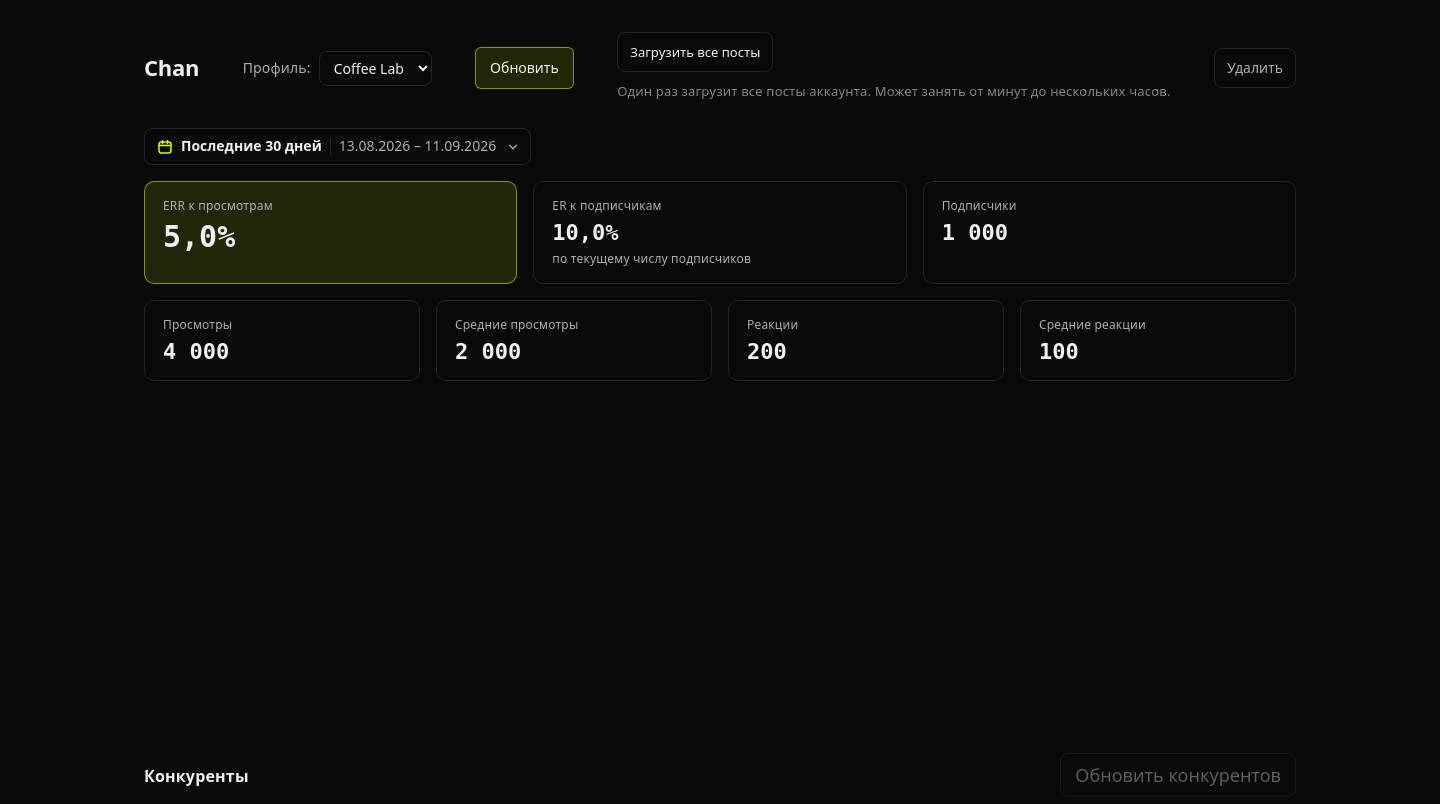
Scenario: delete account › falls back to a generic message when the failure carries none
Click the button with aria-label "Удалить аккаунт" at (1255, 68), box [1214,48,1296,88]
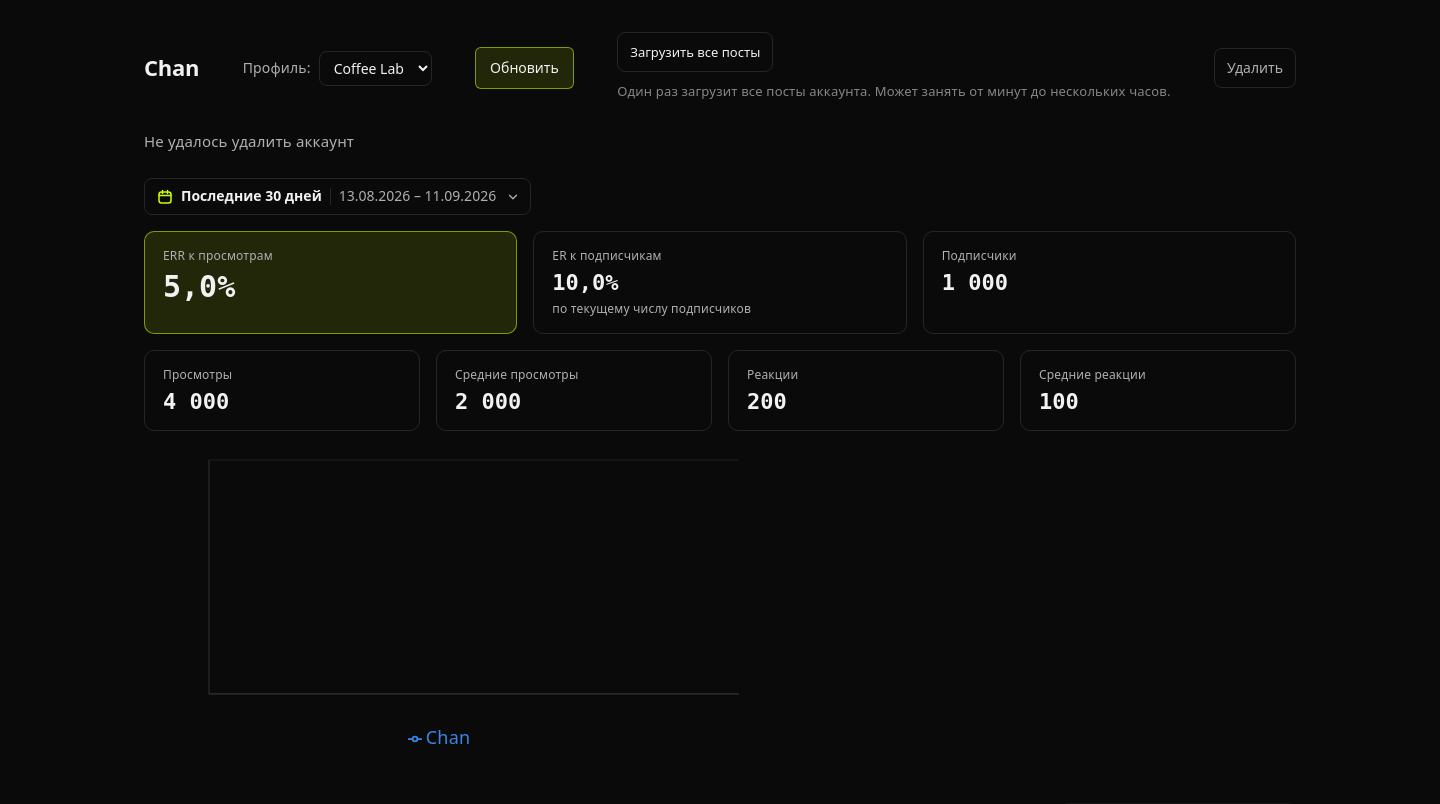
expect the message reads "Не удалось удалить аккаунт": met, box [144,131,354,151]
